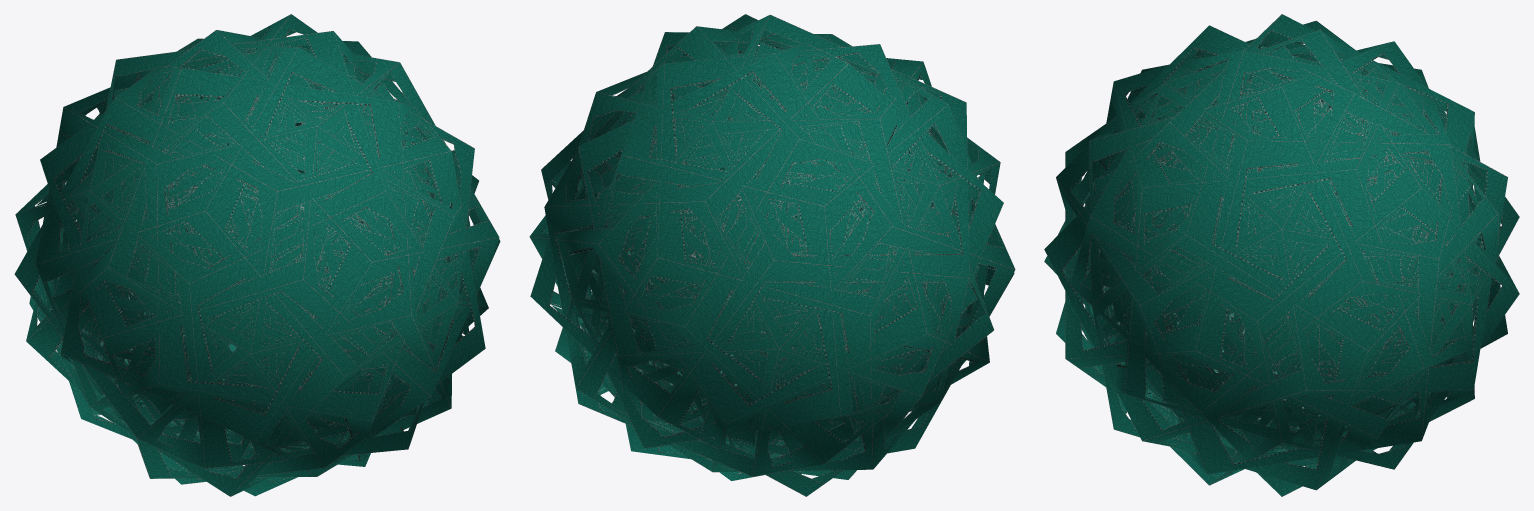
File: GreatPentagonalHexecontahedron16.gltf
The picture shows the model from 3 angles, left to right: view 1: azimuth 30°, elevation 25°; view 2: azimuth 150°, elevation 25°; view 3: azimuth 270°, elevation 25°; orthographic projection.
Parts seen in each view (by area): view 1: GreatPentagonalHexecontahedron16; view 2: GreatPentagonalHexecontahedron16; view 3: GreatPentagonalHexecontahedron16.
Part boxes in pixels (x1,y1,x2,y2): GreatPentagonalHexecontahedron16: [14, 14, 500, 496]; GreatPentagonalHexecontahedron16: [529, 14, 1015, 496]; GreatPentagonalHexecontahedron16: [1044, 14, 1519, 496].
Size of the model in its own units: 1.42 by 1.42 by 1.42.
1 material, 1 textured.
